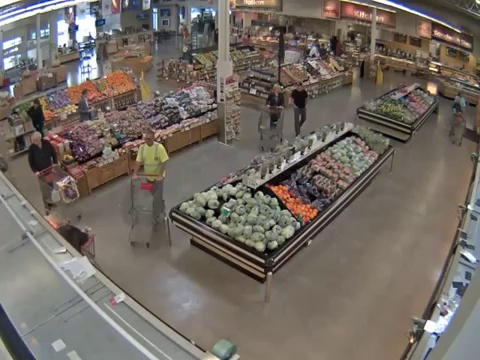face: (145, 135, 154, 147), (31, 135, 39, 145), (274, 85, 281, 93), (297, 82, 302, 91)
